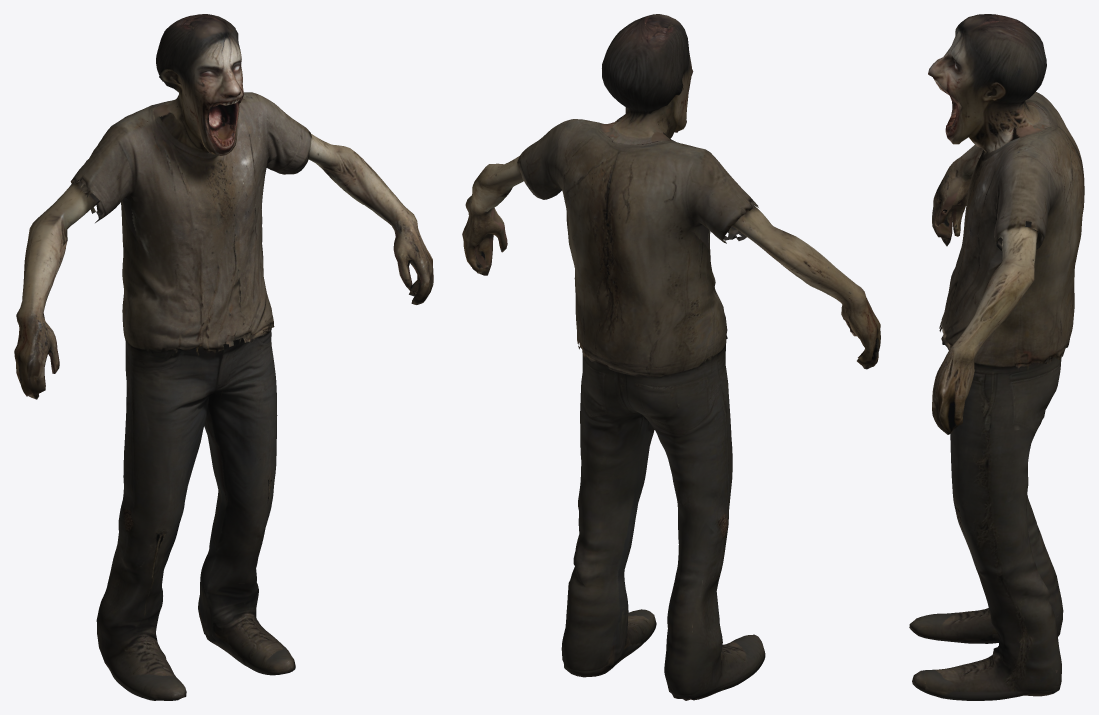
File: maleMonster.fbx
3 renders of one model, left to right at view 1: azimuth 30°, elevation 25°; view 2: azimuth 150°, elevation 25°; view 3: azimuth 270°, elevation 25°, orthographic.
Parts seen in each view (by area): view 1: Mesh1; view 2: Mesh1; view 3: Mesh1.
Boxes of the visible parts, bbox=[...] form: Mesh1: bbox=[14, 14, 433, 700]; Mesh1: bbox=[462, 14, 880, 700]; Mesh1: bbox=[909, 14, 1084, 700].
Bounding box in the file's own units: 134 × 199 × 48.64.
1 material, 1 textured.
